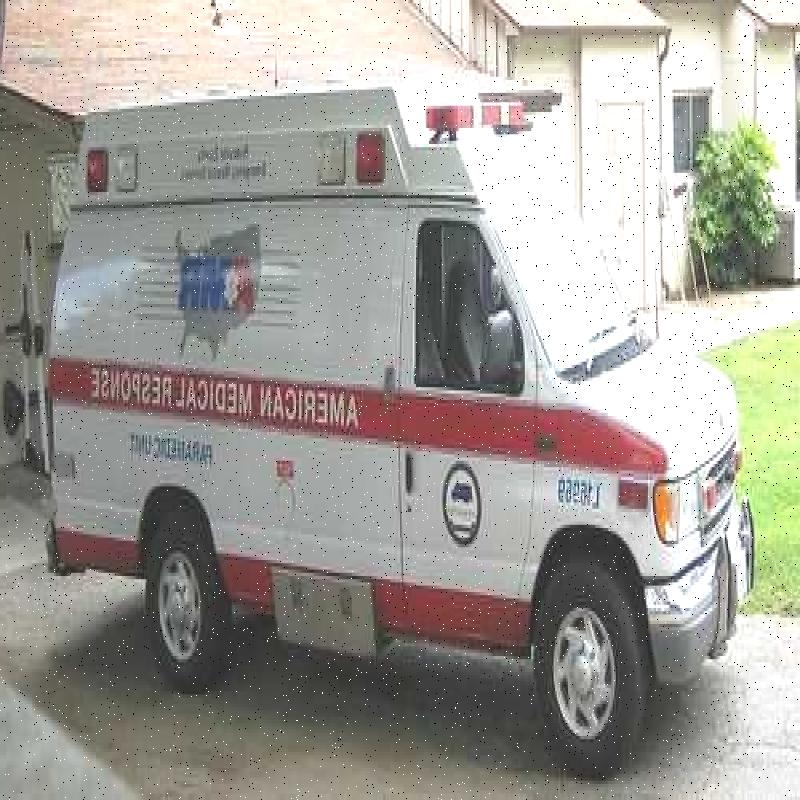AmbulanceSiren: (423, 72, 538, 147)
ambulance: (37, 56, 756, 800)
